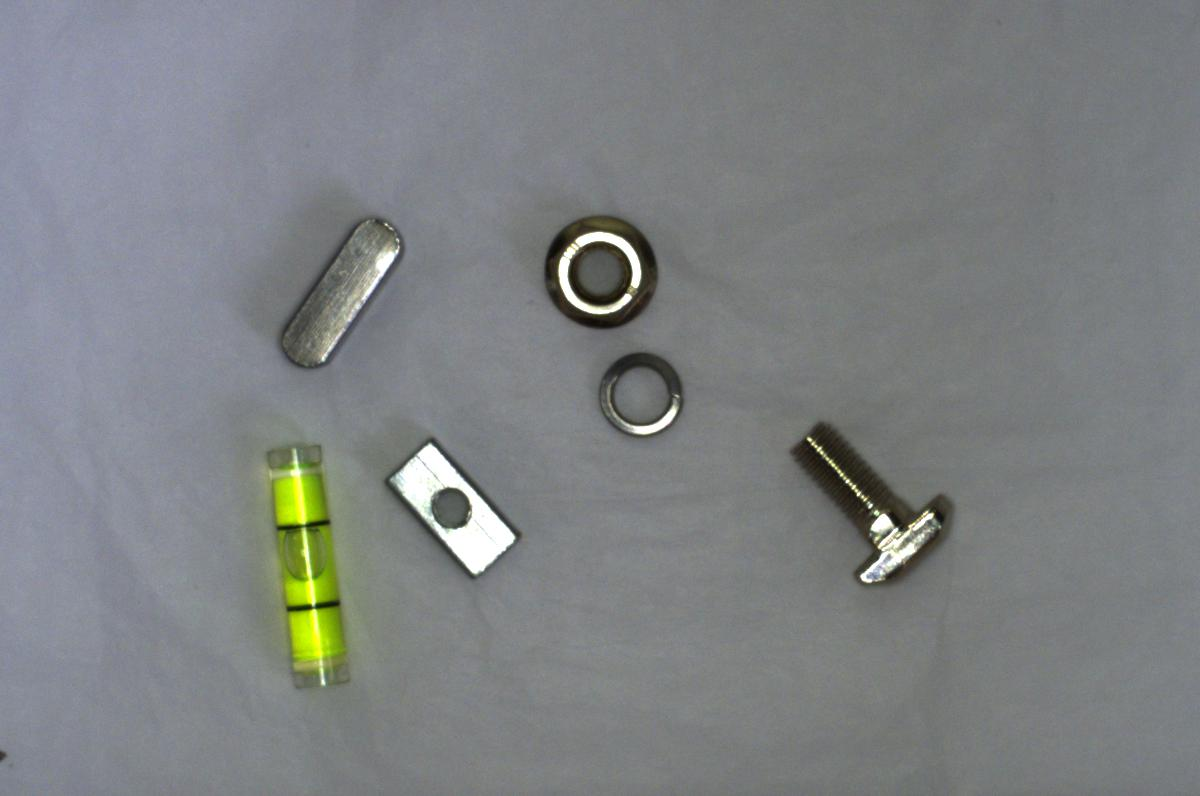Flange nut: (532, 201, 667, 334)
Horizontal bubble: (257, 429, 368, 700)
Keybar: (267, 213, 410, 370)
Rectangular nut: (382, 438, 527, 580)
Spring washer: (591, 342, 691, 439)
T-shaped screw: (786, 414, 955, 590)
